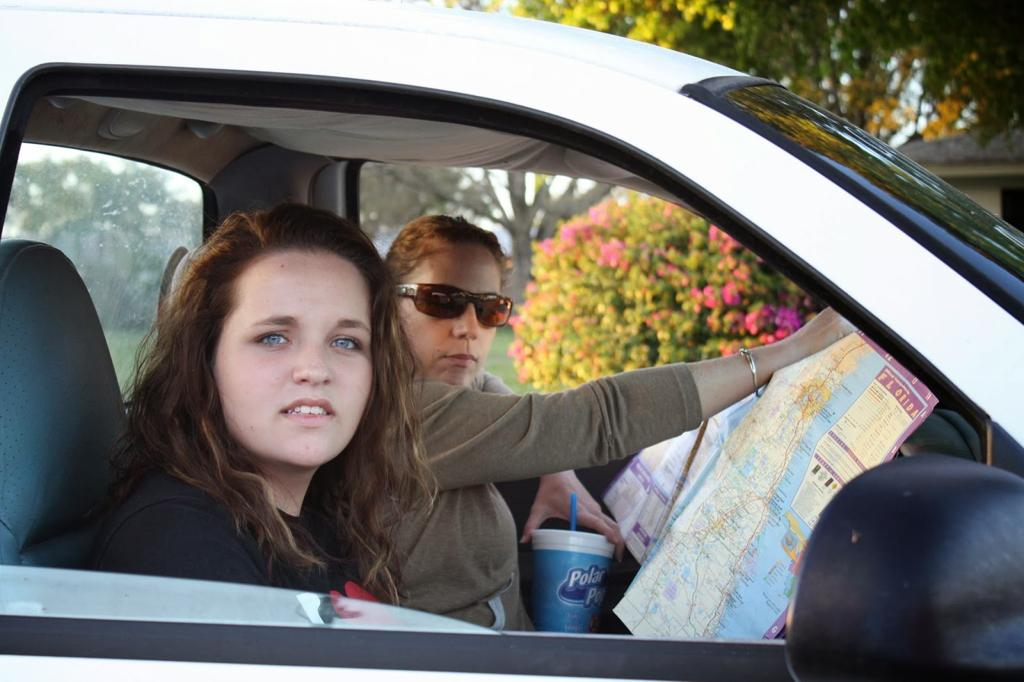face: (220, 270, 378, 472), (412, 262, 504, 380)
